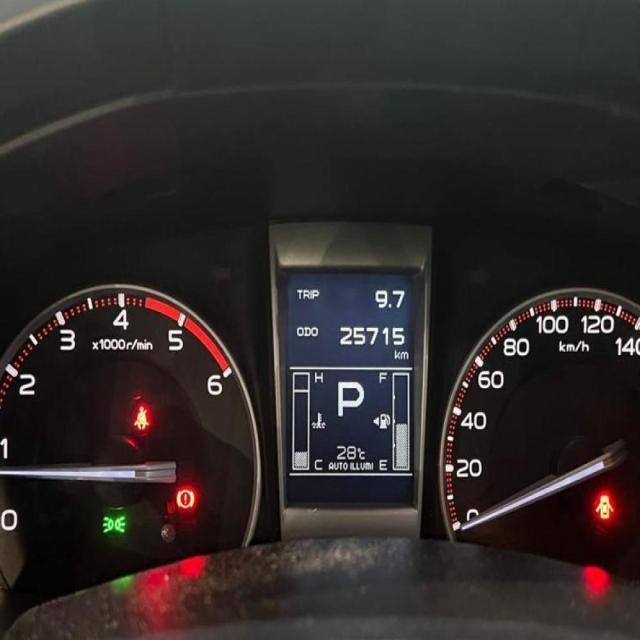Seat Belt: (132, 403, 151, 431)
